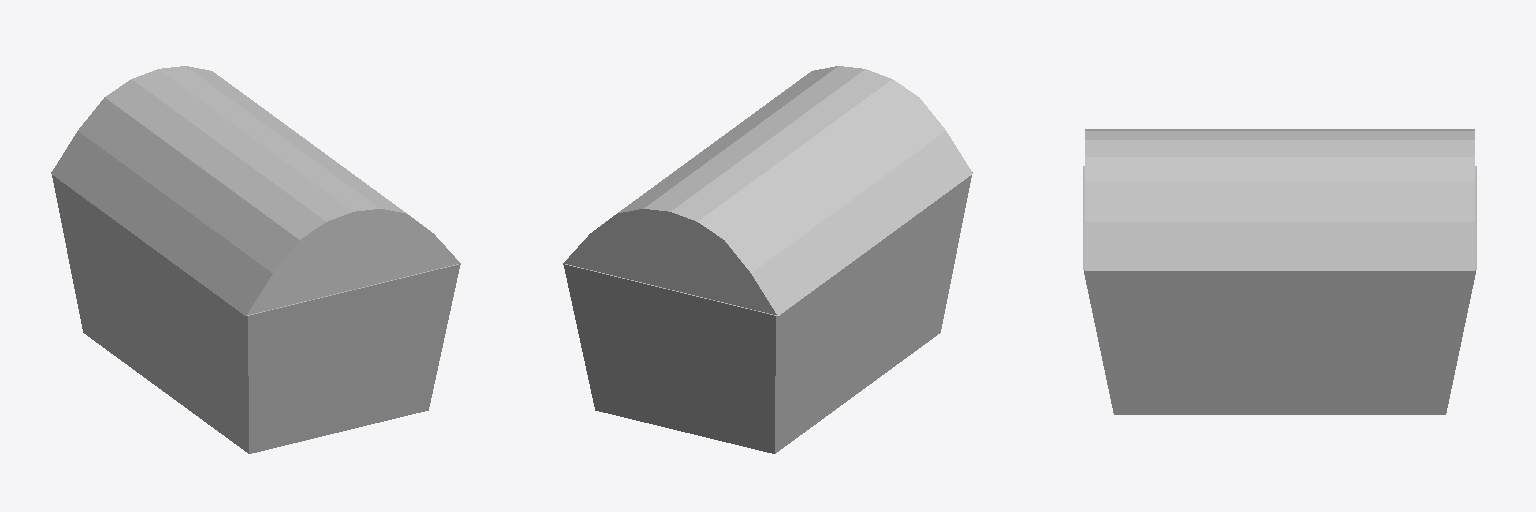
File: chestlx_closed.obj
The picture shows the model from 3 angles: view 1: azimuth 30°, elevation 25°; view 2: azimuth 150°, elevation 25°; view 3: azimuth 270°, elevation 25°; orthographic projection.
Visible parts, largest first — view 1: Plane.003, Cube.003_Cube.001; view 2: Plane.003, Cube.003_Cube.001; view 3: Plane.003, Cube.003_Cube.001.
Boxes of the visible parts, box(x1,y1,x2,y2) form: Plane.003: box(51, 66, 460, 315); Cube.003_Cube.001: box(51, 172, 460, 453); Plane.003: box(563, 66, 972, 315); Cube.003_Cube.001: box(563, 172, 972, 453); Plane.003: box(1085, 129, 1474, 270); Cube.003_Cube.001: box(1083, 166, 1476, 414).
Bounding box in the file's own units: 2.36 × 2.43 × 3.74.